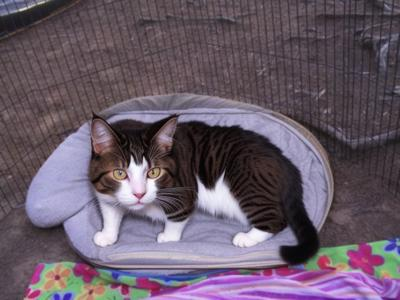cat: (87, 113, 335, 269)
